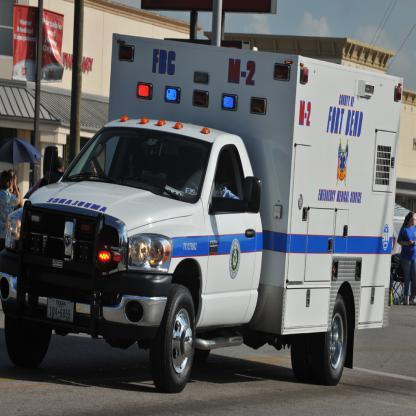ambulance_off: (3, 33, 397, 393)
